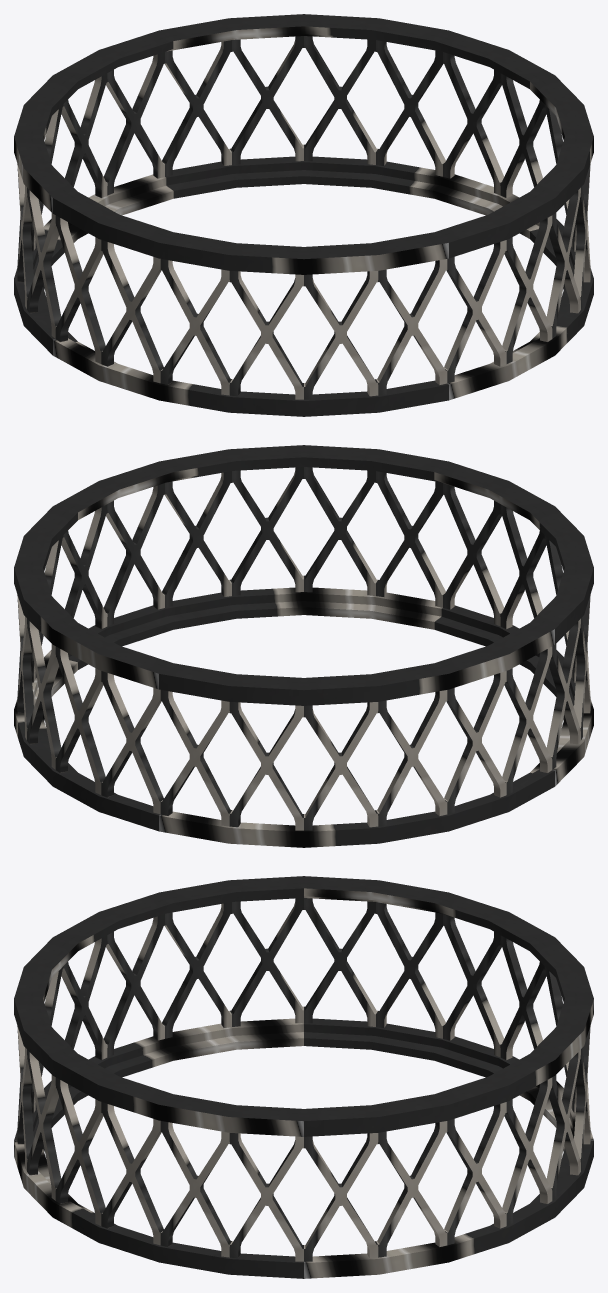
File: stage2interstage2.fbx
The picture shows the model from 3 angles, top to bottom: view 1: azimuth 30°, elevation 25°; view 2: azimuth 150°, elevation 25°; view 3: azimuth 270°, elevation 25°; orthographic projection.
Visible parts, largest first — view 1: mesh; view 2: mesh; view 3: mesh.
Part boxes in pixels (bbox=[...]): mesh: bbox=[14, 14, 593, 416]; mesh: bbox=[14, 445, 593, 847]; mesh: bbox=[14, 876, 593, 1278].
Size of the model in its own units: 2.5 by 0.75 by 2.5.
